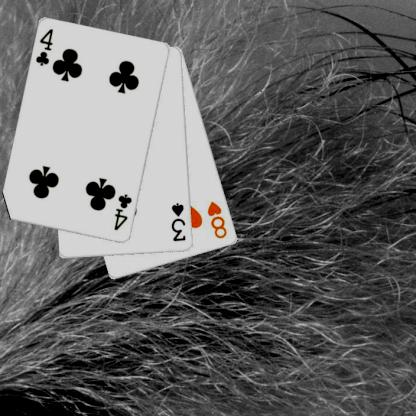3S: (169, 200, 187, 243)
4C: (33, 27, 55, 68), (112, 192, 134, 232)
8H: (205, 198, 229, 240)
